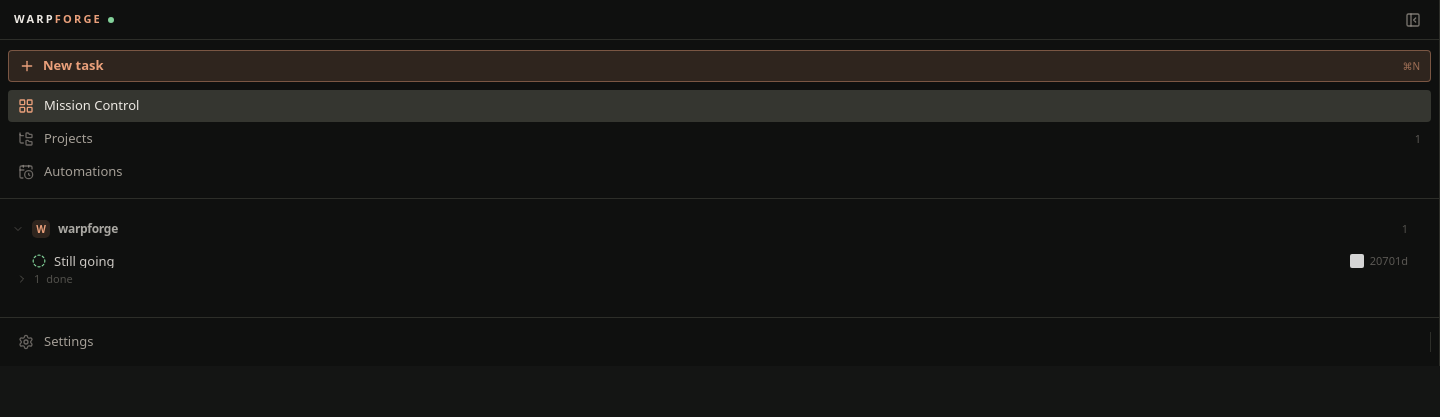
it: Sidebar done shelf › expands to reveal them and collapses again
Click the button "1 done": (22, 279) [8, 267, 1416, 291]
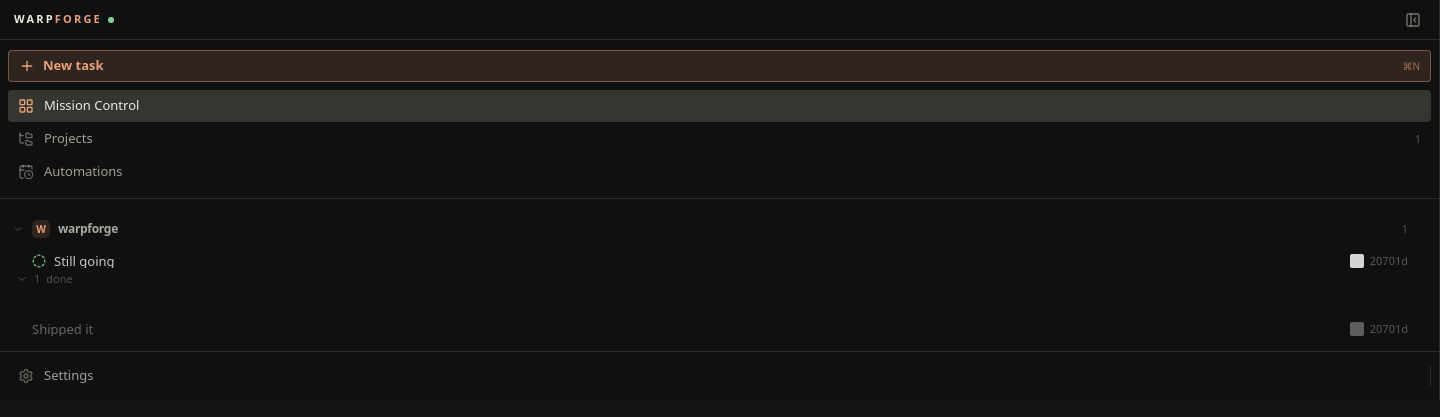
Expected: the text "done" is shown, [46, 271, 73, 287]
Now the text "Shipped it" is shown, box [32, 320, 93, 338]
Click the button with aria-label "Hide 1 done task in warpforge": (22, 279) [8, 267, 1416, 291]
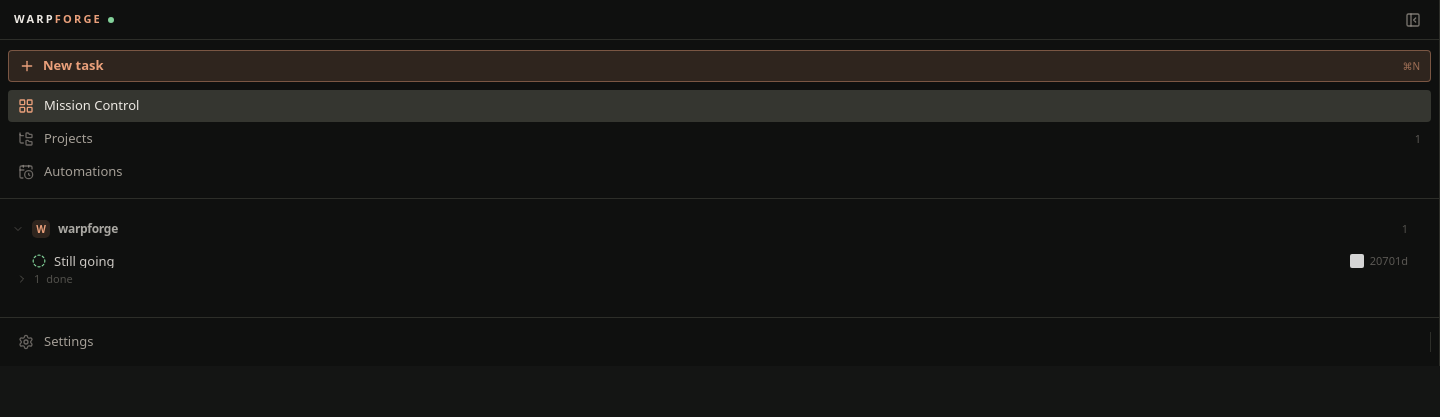
Now the button "Shipped it" is gone
